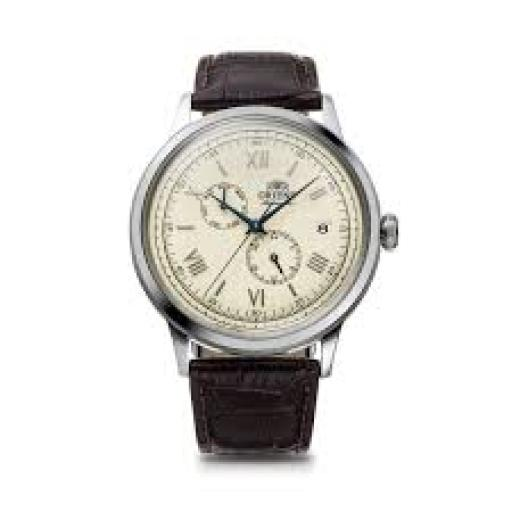KolSaati: (125, 25, 409, 469)
